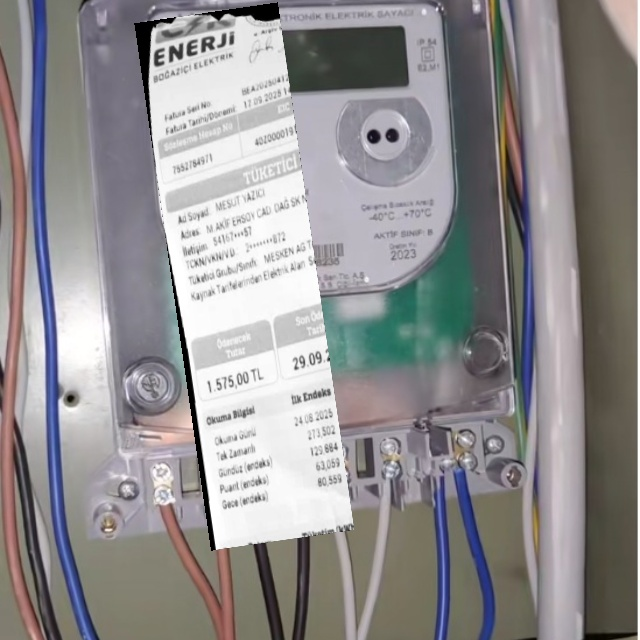electricity-bill: (134, 2, 354, 550)
